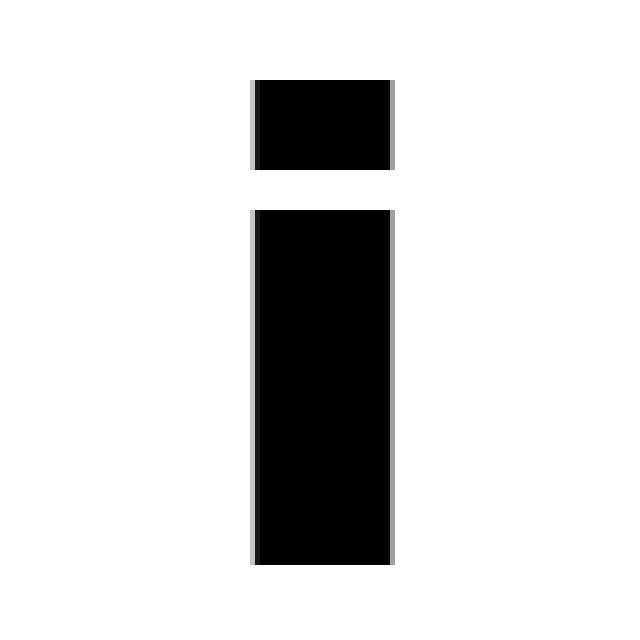I: (234, 65, 413, 581)
